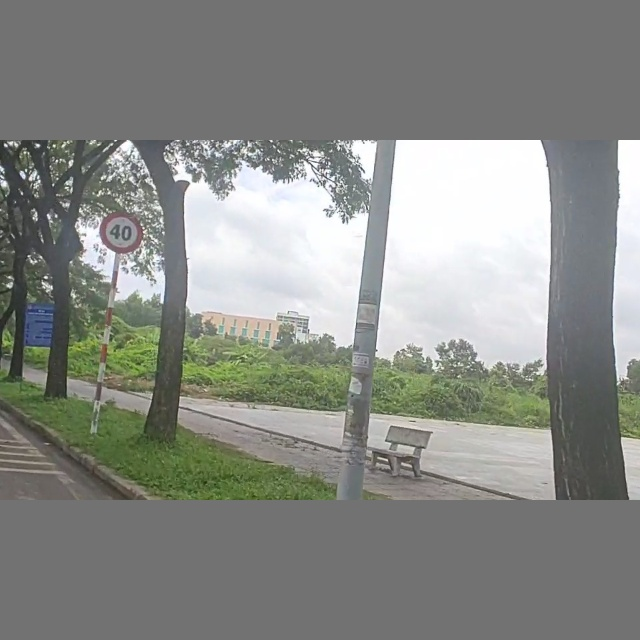P.127*40: (98, 206, 148, 255)
